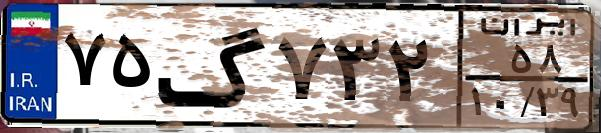0: (495, 70, 520, 125)
1: (470, 70, 495, 125)
2: (385, 28, 445, 110)
3: (330, 28, 385, 110), (535, 70, 560, 125)
5: (110, 28, 156, 98), (508, 27, 537, 80)
7: (270, 28, 330, 110), (57, 26, 110, 100)
8: (537, 27, 568, 80)
9: (560, 70, 590, 125)
گ: (156, 12, 270, 120)
